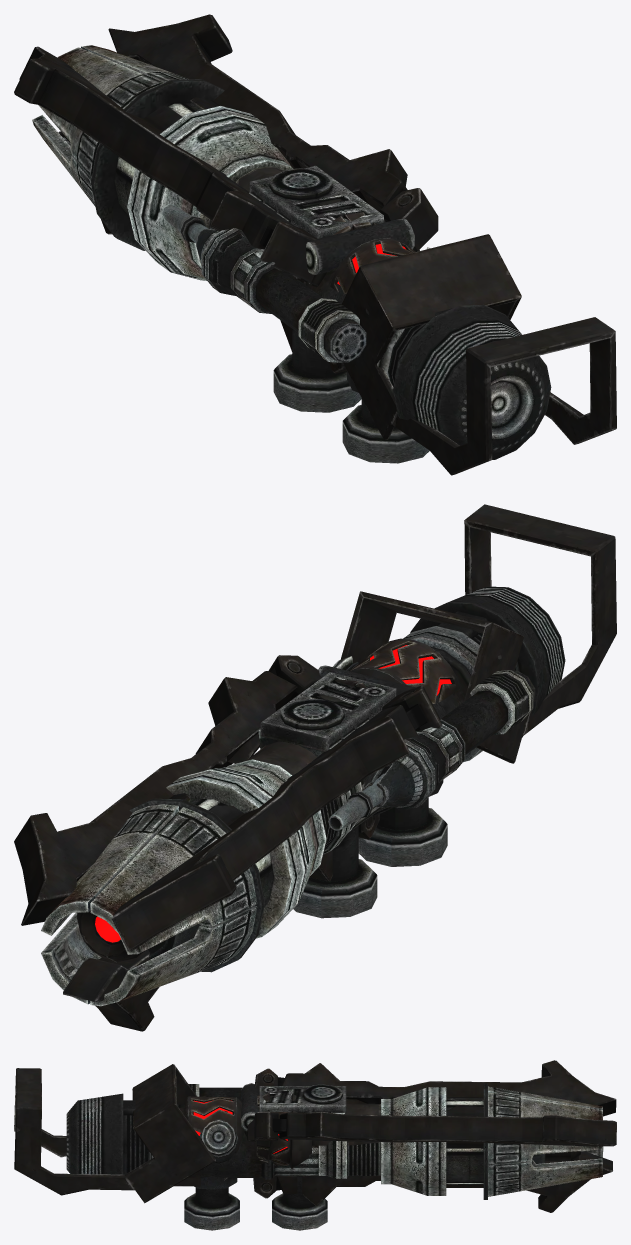
Rendered from heavy.glb.
3 renders of one model, top to bottom at view 1: azimuth 30°, elevation 25°; view 2: azimuth 150°, elevation 25°; view 3: azimuth 270°, elevation 25°, orthographic. The views are drawn at different scales.
Parts seen in each view (by area): view 1: Object_48, Object_55; view 2: Object_48, Object_55, Object_54; view 3: Object_55, Object_48.
Boxes of the visible parts, <box> form: Object_48: <box>32,45,551,463</box>; Object_55: <box>14,14,616,475</box>; Object_48: <box>41,586,565,1006</box>; Object_55: <box>14,504,616,1031</box>; Object_54: <box>95,645,451,942</box>; Object_55: <box>14,1060,616,1212</box>; Object_48: <box>66,1083,603,1230</box>.
Size of the model in its own units: 0.2639 by 0.2486 by 1.
Materials: 3 (2 with a texture image).
